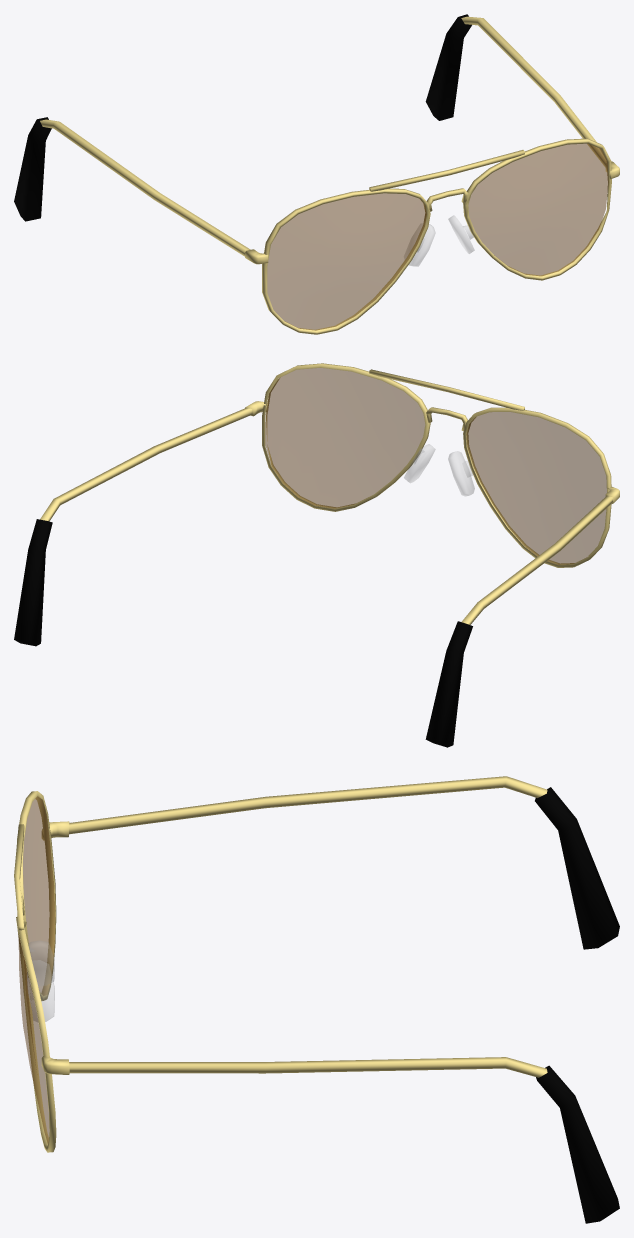
3 views of the same model, one above another, from view 1: azimuth 30°, elevation 25°; view 2: azimuth 150°, elevation 25°; view 3: azimuth 270°, elevation 25° (orthographic). The views are drawn at different scales.
Visible parts, largest first — view 1: Wolf3D_Glasses; view 2: Wolf3D_Glasses; view 3: Wolf3D_Glasses.
Part boxes in pixels (x1,y1,x2,y2): Wolf3D_Glasses: (14, 14, 619, 334); Wolf3D_Glasses: (14, 363, 619, 747); Wolf3D_Glasses: (14, 776, 619, 1223).
Size of the model in its own units: 0.1617 by 0.0545 by 0.1447.
Materials: 1 (1 with a texture image).
